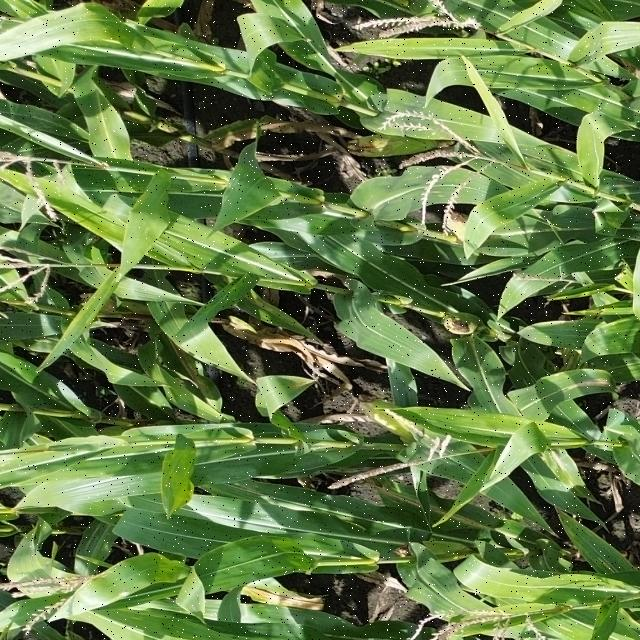northern-leaf-blight: (241, 568, 323, 610)
southern-leaf-blight: (397, 168, 480, 242), (558, 312, 630, 388)
